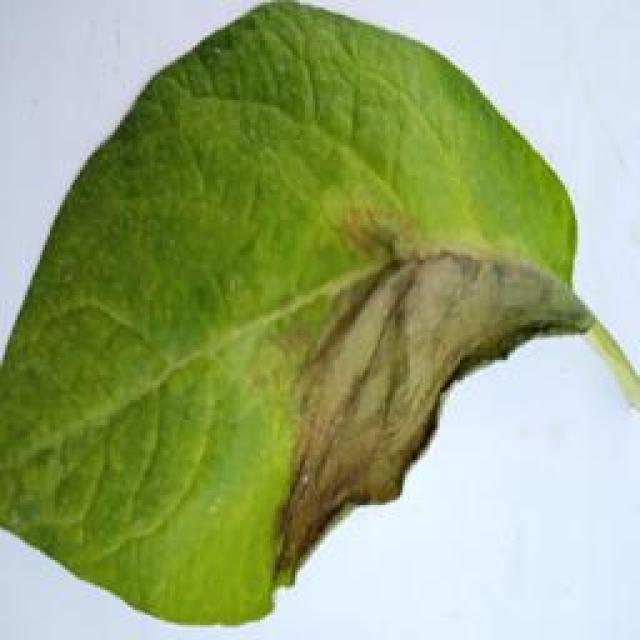Potato_Late_Blight: (5, 2, 629, 624)
